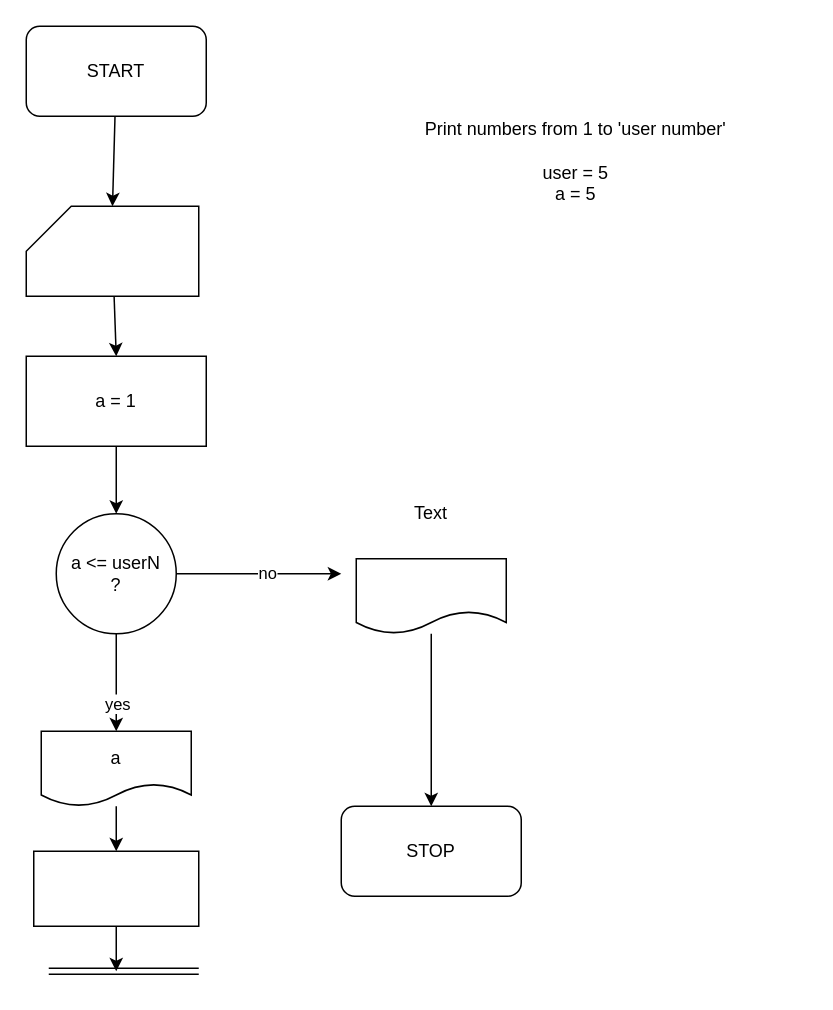
This 833x1010 diagram has some shape labels left out. The box of each missing label's shape, as (x1, y1, x2, y2) in pixels:
"finish": (355, 557, 506, 634)
a = a + 1: (32, 850, 199, 926)
userN: (25, 205, 199, 296)
